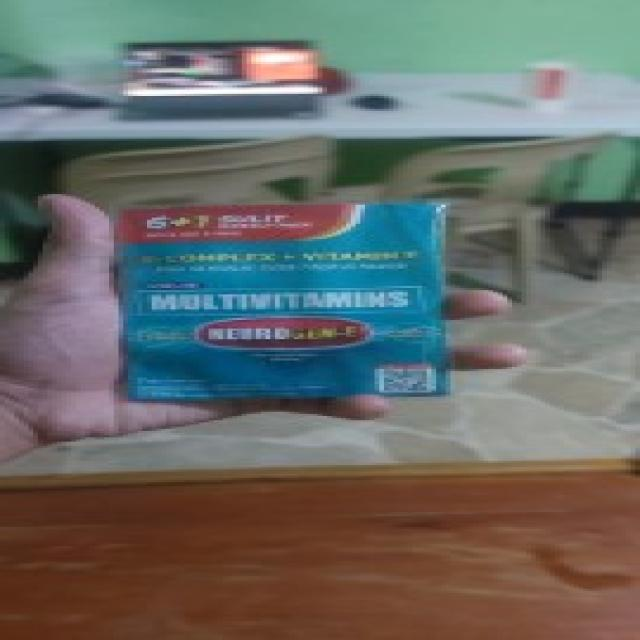Cacat: (121, 198, 448, 397)
